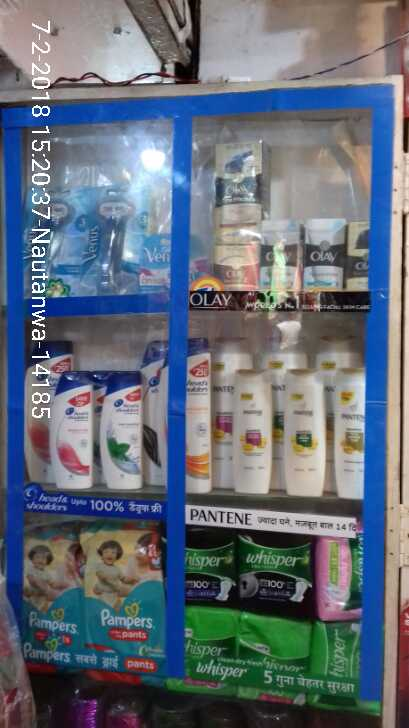venus: (37, 190, 90, 294), (90, 190, 138, 290), (138, 234, 174, 290)
